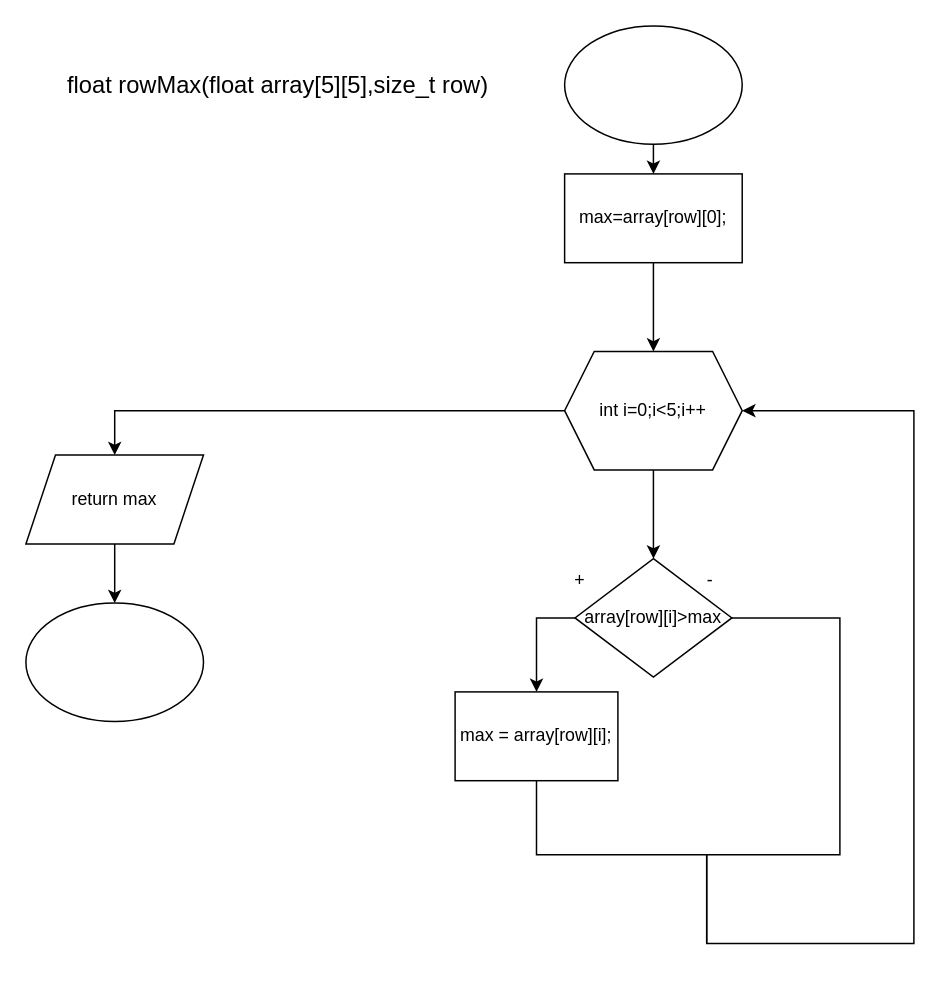
Some shapes in this 952 by 981 pixel diagram are drawn without their labels. The shapes that lost their labels are listed below. From the top down, each one's box as (x1, y1, x2, y2) in pixels, then its label:
(563, 24, 742, 144): Начало
(24, 602, 204, 722): Конец
